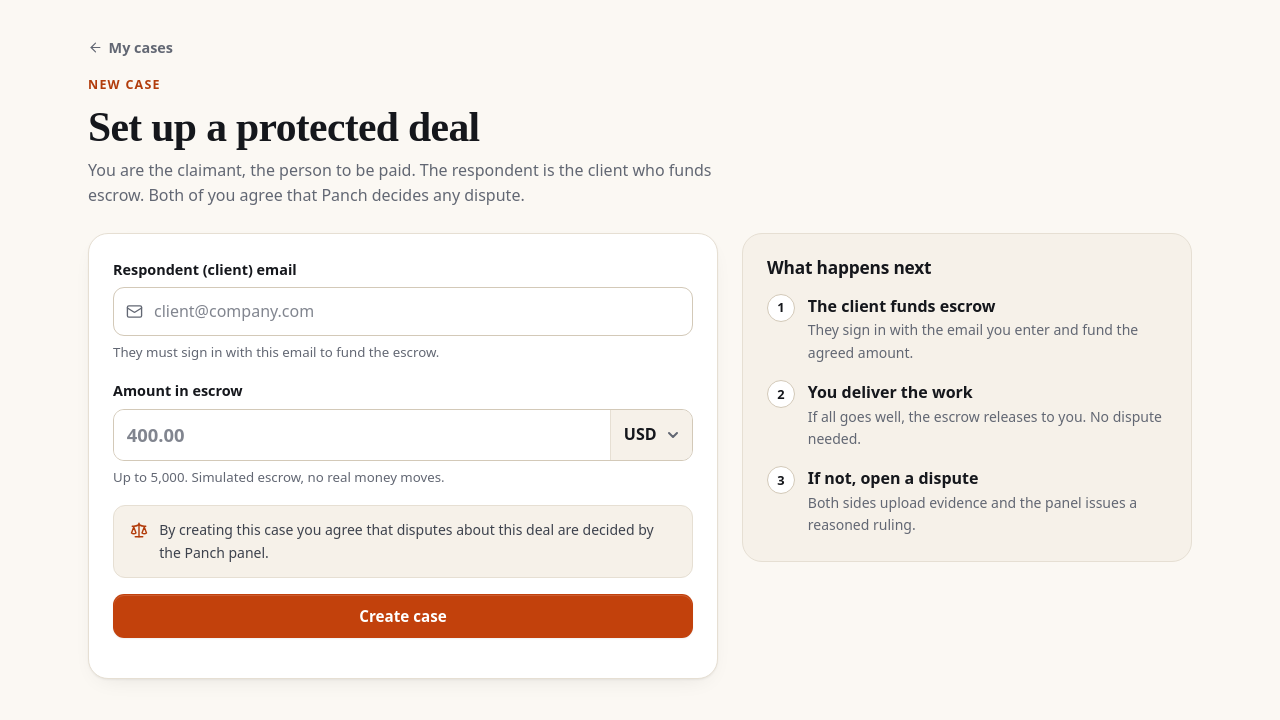
Test: new case › rejects not-an-email / 400
Type "not-an-email" into the field with test id "respondent-email". click: (403,311)
box: [113, 287, 693, 336]
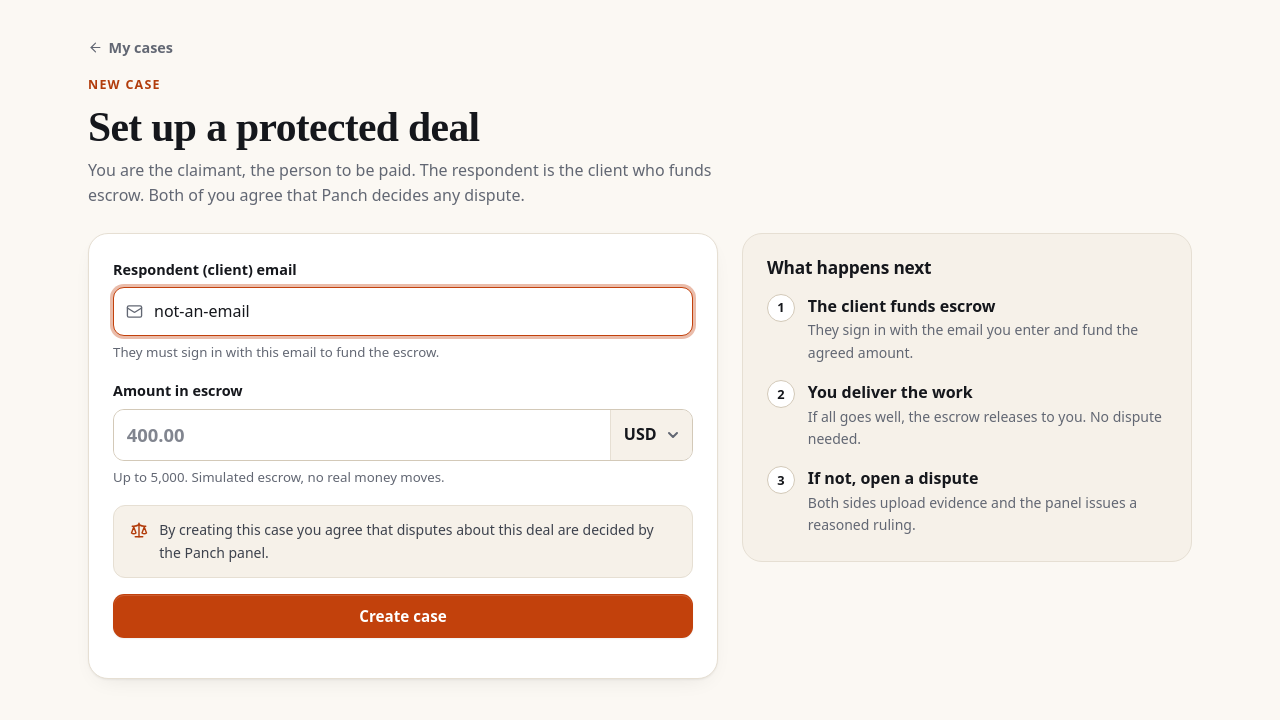
Type "400" into the field with test id "amount". click: (362,435)
box: [114, 410, 610, 460]
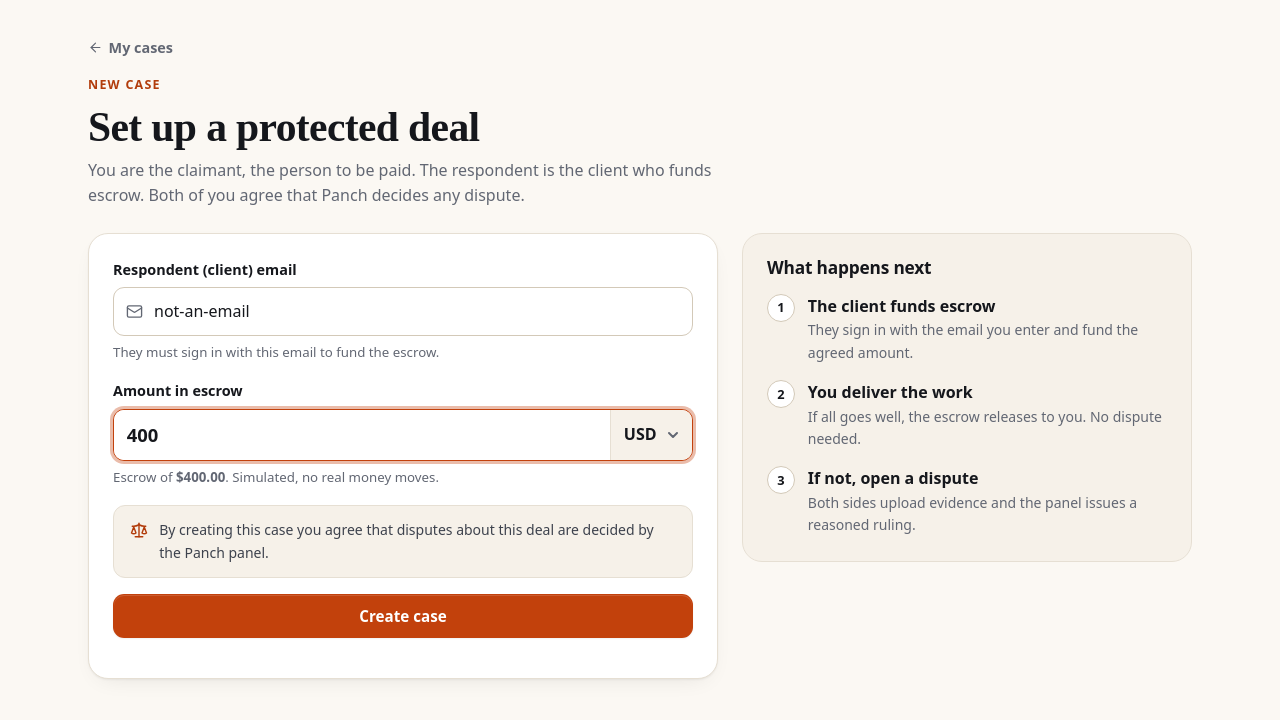
Click the button with test id "create-case". click: (403,616)
box: [113, 594, 693, 638]
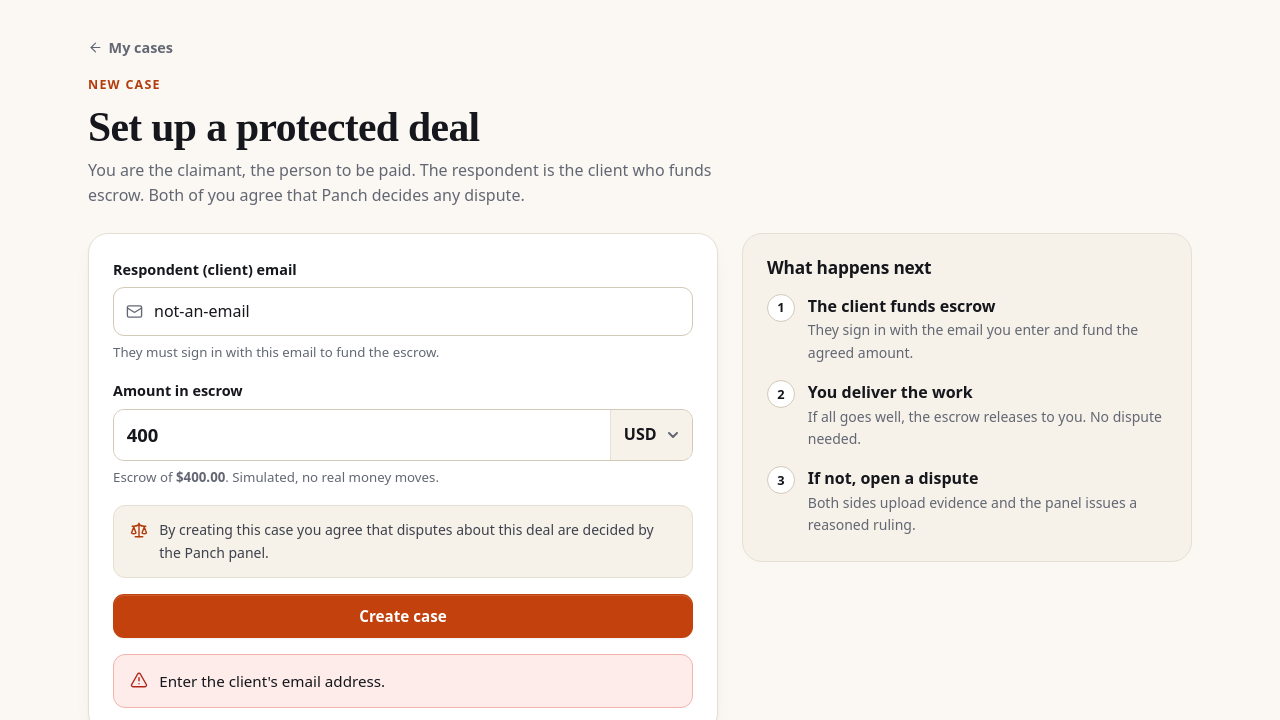
Expected: the message reads "Enter the client's email address.", [159, 671, 385, 691]
